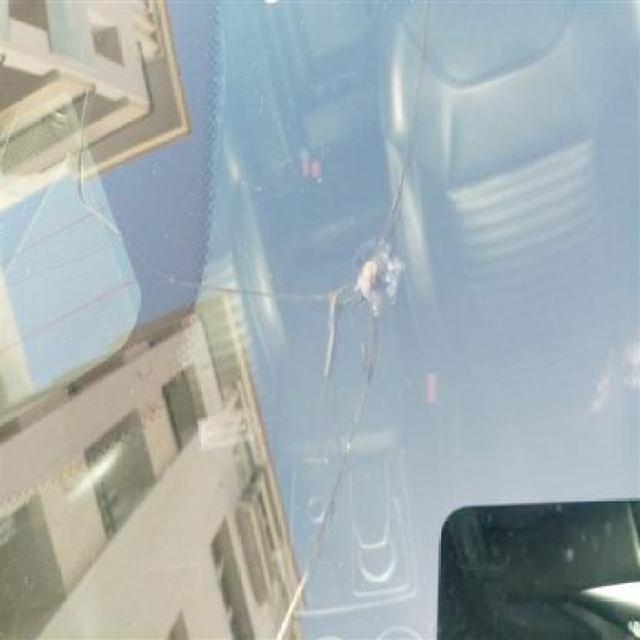car damage: (66, 88, 361, 311), (270, 312, 385, 640), (380, 14, 436, 239), (352, 238, 406, 304)
